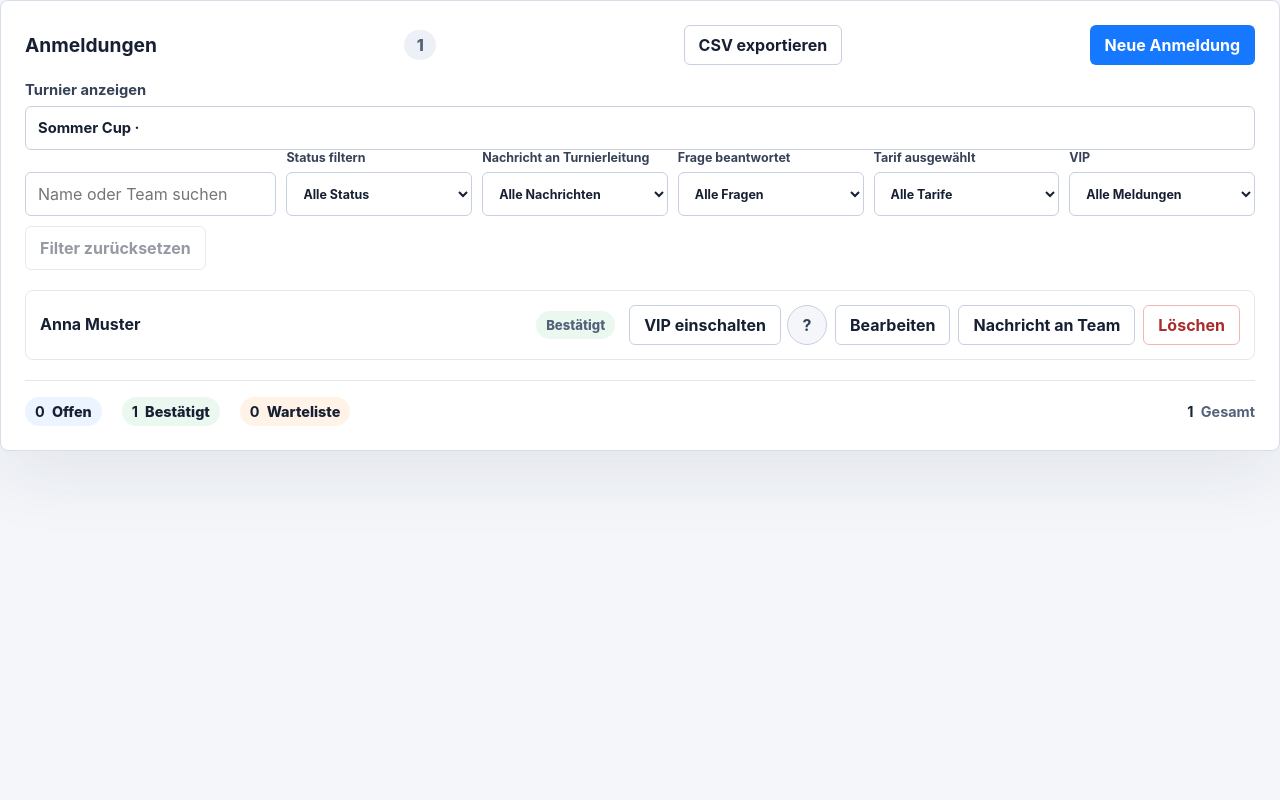
it: Anmeldungsverwaltung: Live-Link erneut senden › bietet für einen alten, nicht wiederherstellbaren Link erst nach Hinweis einen neuen an
Click the button "Bearbeiten" at (893, 325), box [835,305,950,345]
(page scrolled)
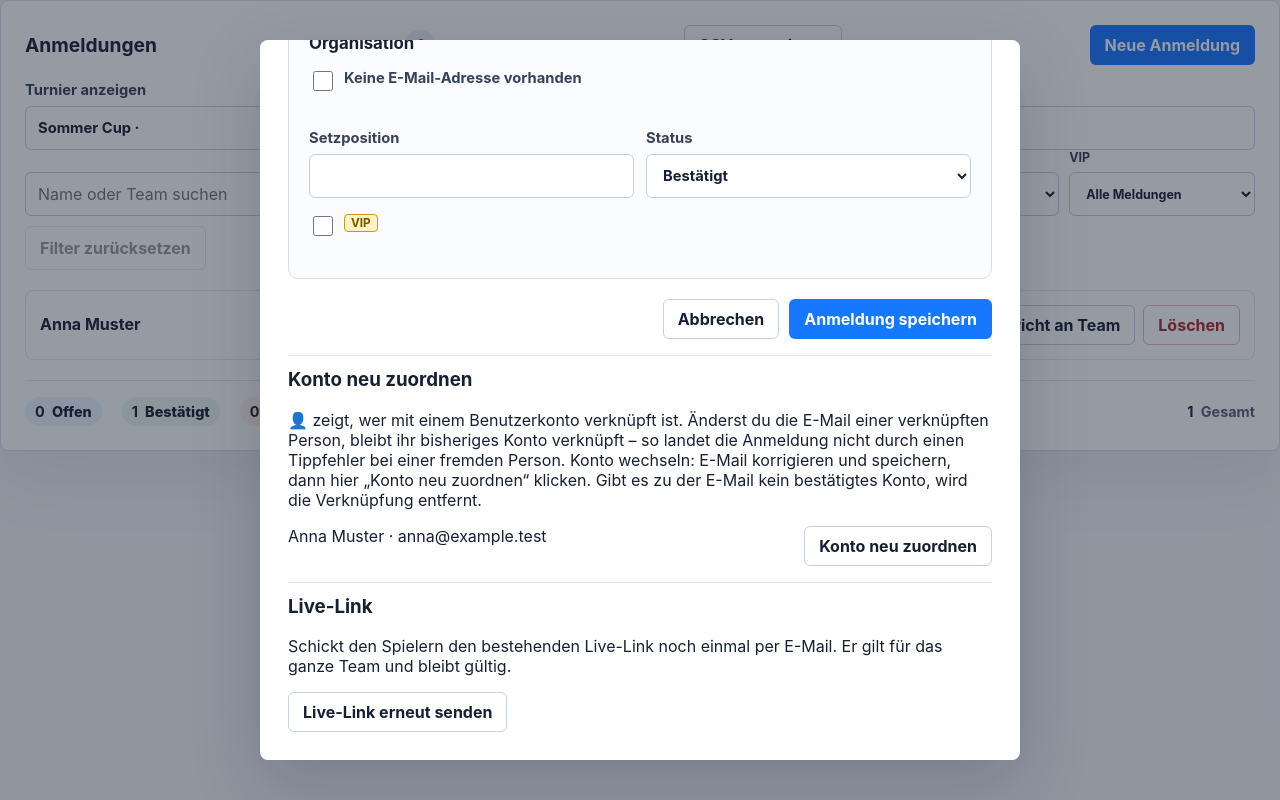
Click the button "Live-Link erneut senden" at (398, 712), box [288,692,507,732]
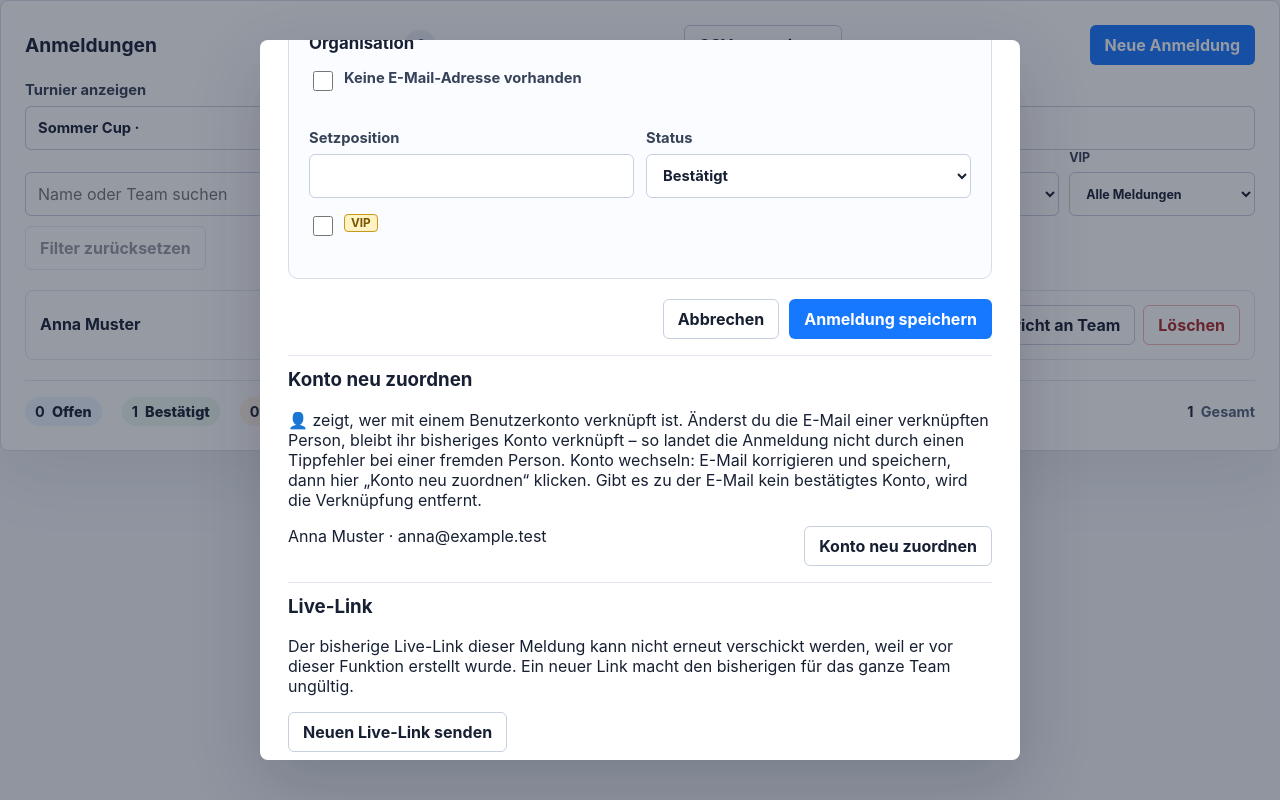
Result: the text "kann nicht erneut verschickt werden" is shown at [288,636,953,696]
Click the button "Neuen Live-Link senden" at (398, 732), box [288,712,507,752]
(page scrolled)
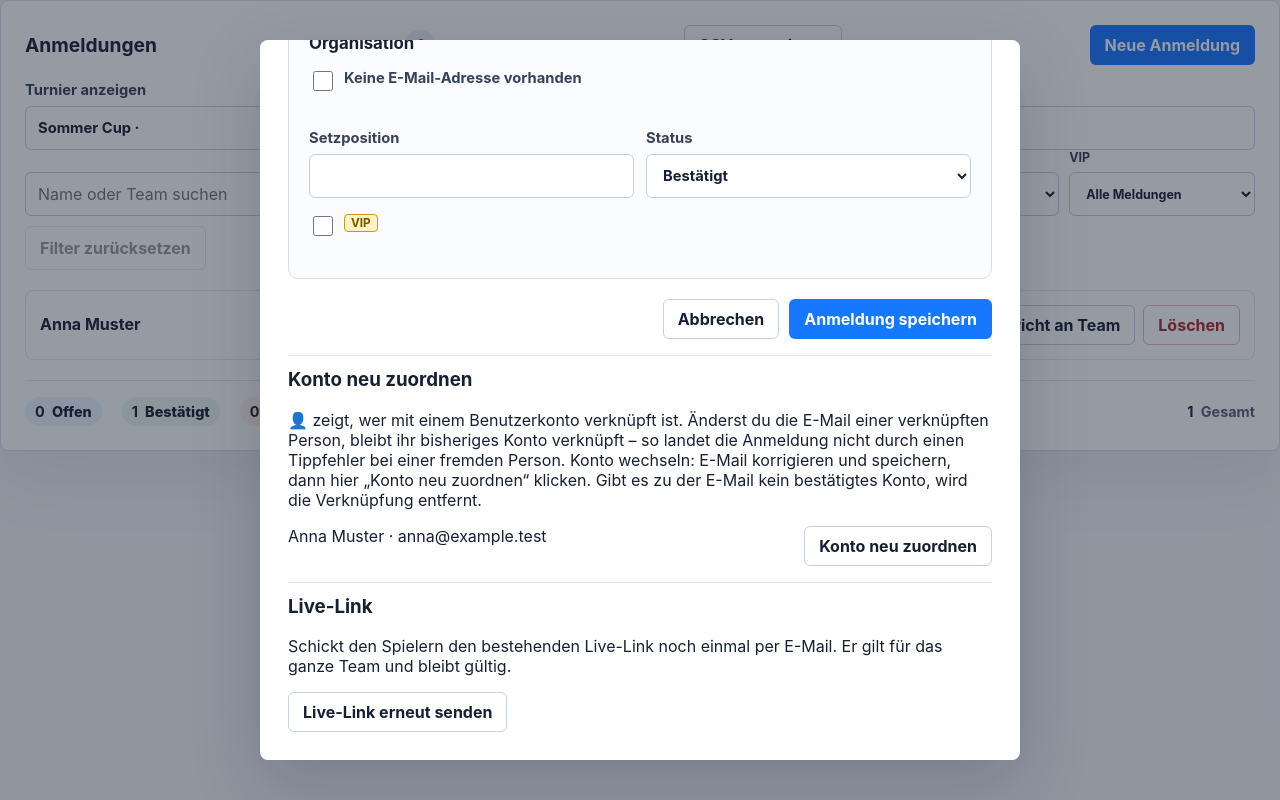
Result: the button "Live-Link erneut senden" is shown at [288,692,507,732]
